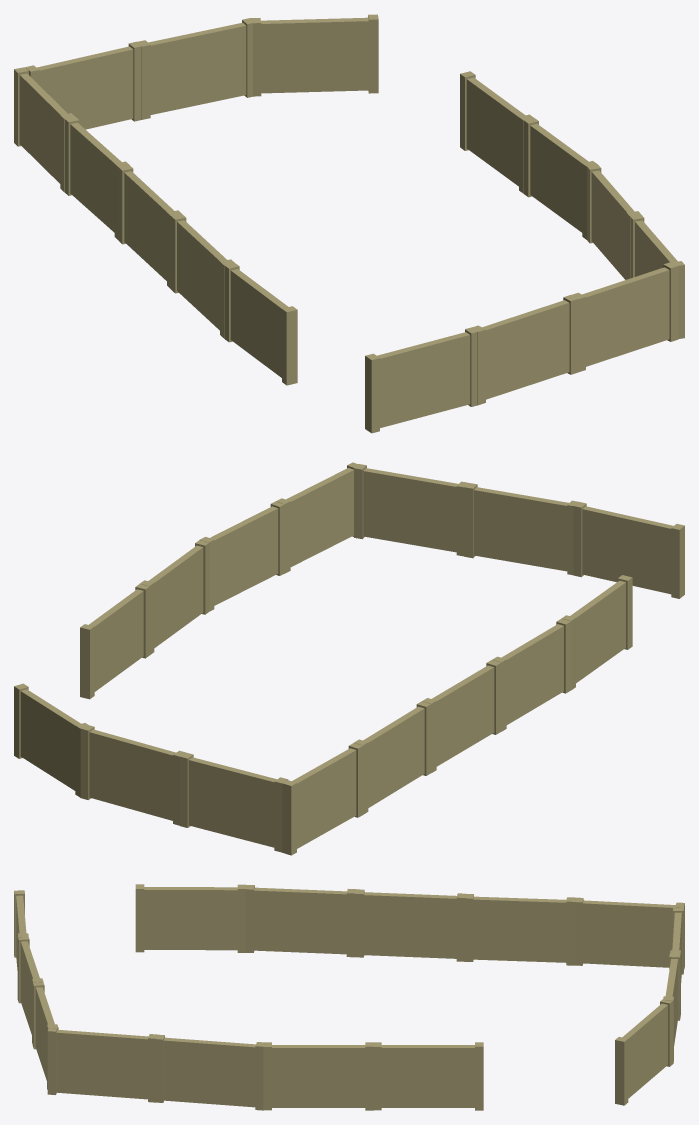
File: _alls.fbx
3 renders of one model, top to bottom at view 1: azimuth 30°, elevation 25°; view 2: azimuth 150°, elevation 25°; view 3: azimuth 270°, elevation 25°, orthographic. The views are drawn at different scales.
Visible parts, largest first — view 1: pCube206; view 2: pCube206; view 3: pCube206.
Boxes of the visible parts, left/top/right/bottom form: pCube206: left=14, top=14, right=684, bottom=433; pCube206: left=14, top=462, right=684, bottom=855; pCube206: left=14, top=884, right=684, bottom=1110.
Size of the model in its own units: 1650 by 302 by 2876.
